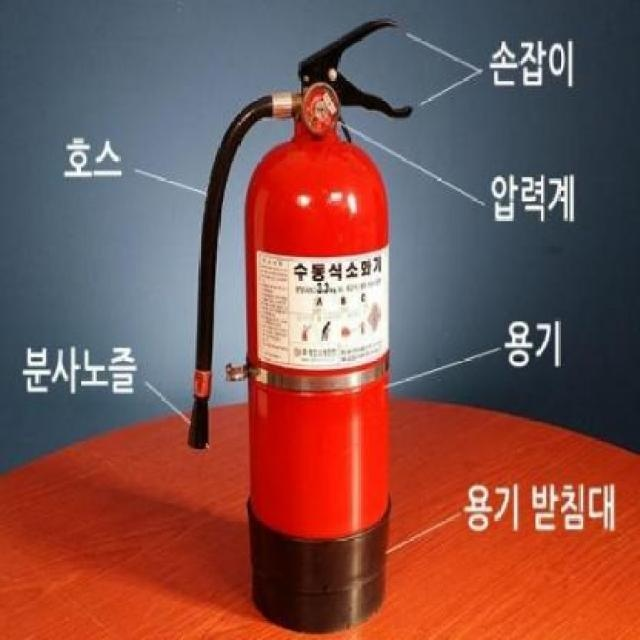fire extinguisher: (188, 17, 415, 634)
